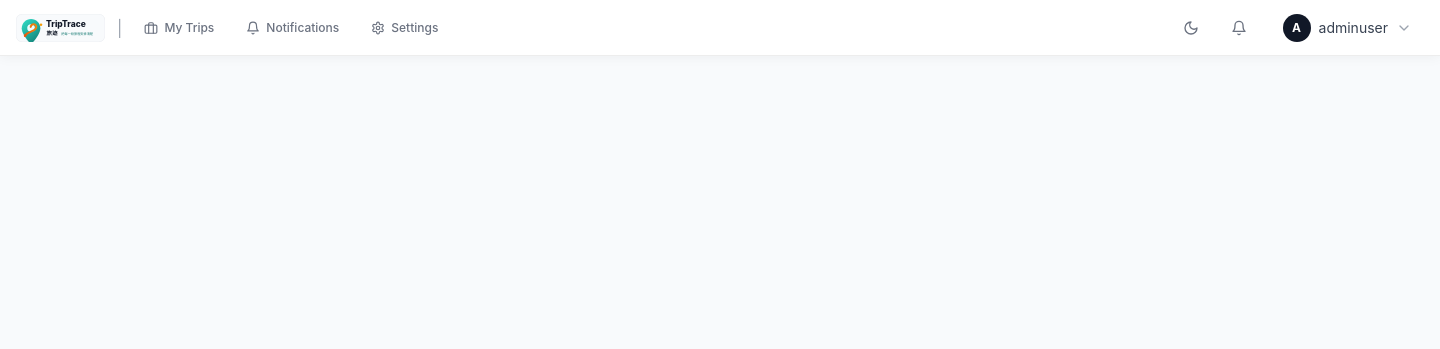
Test: Navbar › FE-COMP-NAVBAR-033: administrator badge shown for admin user in open menu
Click the text "adminuser": {"x": 1353, "y": 28} [1318, 18, 1388, 38]
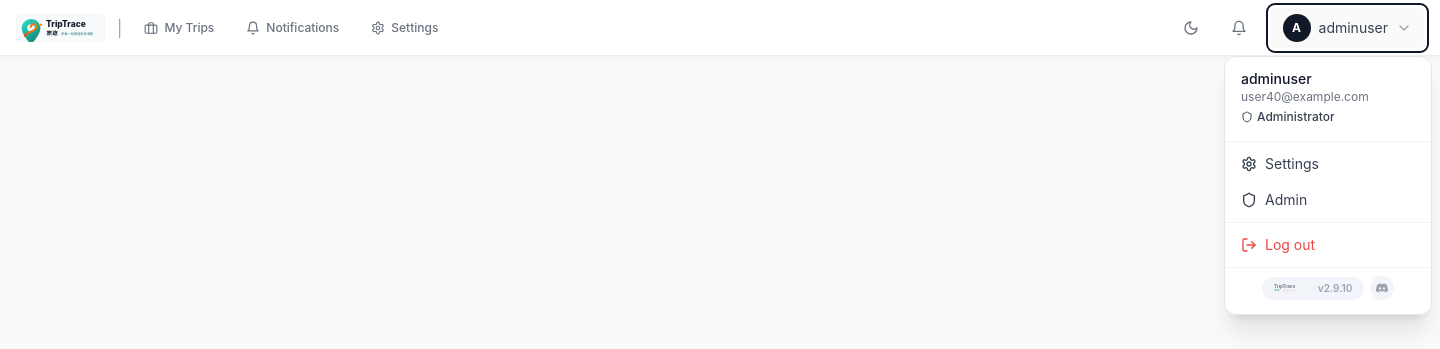
Now the text "Administrator" is shown, box [1241, 109, 1335, 125]
